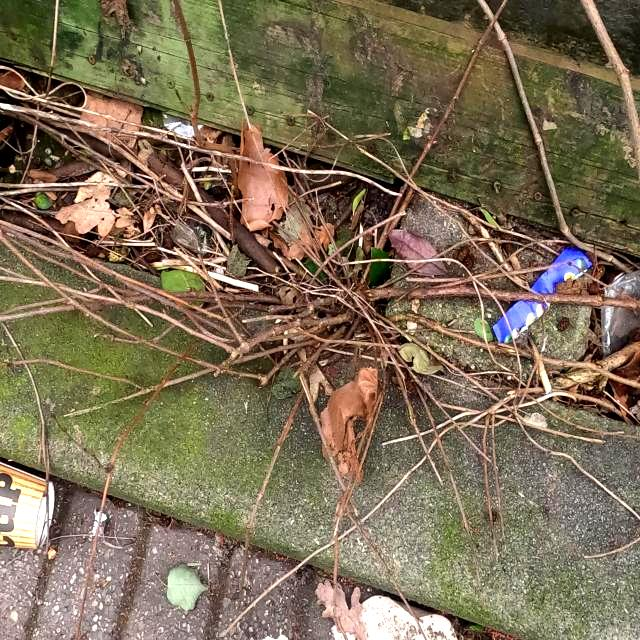Coffee Cup: (0, 460, 56, 550)
Plastic: (491, 244, 594, 346)
